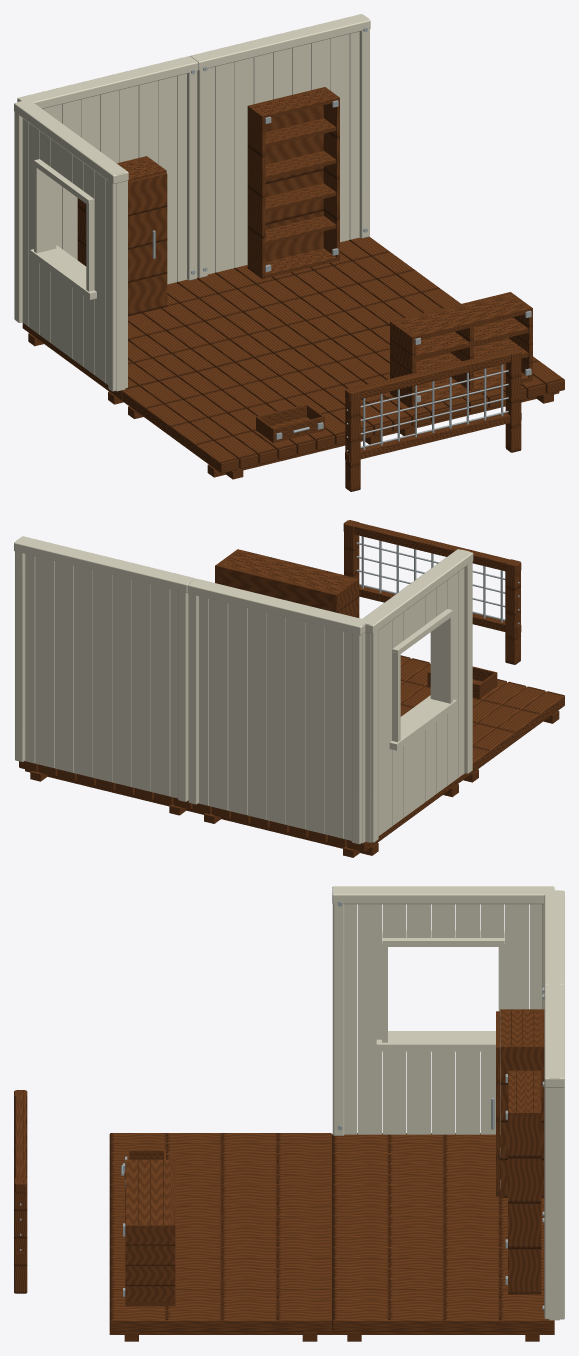
Rendered from suburban-outbreak-interiors-construction-and-service-c-8cce8ac8__20022.glb.
3 views of the same model, one above another, from view 1: azimuth 30°, elevation 25°; view 2: azimuth 150°, elevation 25°; view 3: azimuth 270°, elevation 25° (orthographic). The views are drawn at different scales.
Parts seen in each view (by area): view 1: 005-room-solid-partition/0, 006-room-window-wall/0, 001-modular-survival-base-builder--plank-floor/0, 004-room-solid-partition/0, 007-bookcase-broken-back/0, 002-modular-survival-base-builder--plank-floor/0, 000-modular-survival-base-builder--plank-floor/0, 009-sideboard-open-carcass/0, 003-modular-survival-base-builder--plank-floor/0, 011-balcony-guardrail/0, 008-display-cabinet-carcass/cabinet-door-0/wood, 011-balcony-guardrail/1 (+2 smaller); view 2: 004-room-solid-partition/0, 005-room-solid-partition/0, 006-room-window-wall/0, 001-modular-survival-base-builder--plank-floor/0, 009-sideboard-open-carcass/0, 011-balcony-guardrail/0, 000-modular-survival-base-builder--plank-floor/0, 002-modular-survival-base-builder--plank-floor/0, 011-balcony-guardrail/1, 010-sideboard-removable-drawer/0; view 3: 006-room-window-wall/0, 002-modular-survival-base-builder--plank-floor/0, 003-modular-survival-base-builder--plank-floor/0, 001-modular-survival-base-builder--plank-floor/0, 000-modular-survival-base-builder--plank-floor/0, 007-bookcase-broken-back/0, 009-sideboard-open-carcass/0, 005-room-solid-partition/0, 008-display-cabinet-carcass/0, 011-balcony-guardrail/0, 004-room-solid-partition/0, 008-display-cabinet-carcass/cabinet-door-0/wood.
Part boxes in pixels (x1,y1,x2,y2): 005-room-solid-partition/0: (190, 14, 370, 277); 006-room-window-wall/0: (14, 99, 128, 391); 001-modular-survival-base-builder--plank-floor/0: (122, 349, 392, 479); 004-room-solid-partition/0: (17, 56, 198, 284); 007-bookcase-broken-back/0: (247, 87, 339, 279); 002-modular-survival-base-builder--plank-floor/0: (197, 237, 460, 349); 000-modular-survival-base-builder--plank-floor/0: (22, 279, 292, 404); 009-sideboard-open-carcass/0: (390, 292, 532, 409); 003-modular-survival-base-builder--plank-floor/0: (294, 326, 564, 435); 011-balcony-guardrail/0: (345, 348, 521, 491); 008-display-cabinet-carcass/cabinet-door-0/wood: (128, 172, 167, 316); 011-balcony-guardrail/1: (346, 364, 508, 451); 004-room-solid-partition/0: (187, 578, 367, 844); 005-room-solid-partition/0: (14, 536, 195, 801); 006-room-window-wall/0: (360, 549, 473, 842); 001-modular-survival-base-builder--plank-floor/0: (400, 655, 564, 782); 009-sideboard-open-carcass/0: (215, 549, 359, 617); 011-balcony-guardrail/0: (343, 520, 521, 664); 000-modular-survival-base-builder--plank-floor/0: (192, 773, 464, 857); 002-modular-survival-base-builder--plank-floor/0: (19, 761, 198, 815); 011-balcony-guardrail/1: (356, 536, 519, 624); 010-sideboard-removable-drawer/0: (427, 666, 497, 698); 006-room-window-wall/0: (332, 886, 554, 1135); 002-modular-survival-base-builder--plank-floor/0: (332, 1227, 554, 1341); 003-modular-survival-base-builder--plank-floor/0: (109, 1227, 332, 1341); 001-modular-survival-base-builder--plank-floor/0: (109, 1133, 332, 1227); 000-modular-survival-base-builder--plank-floor/0: (332, 1133, 544, 1227); 007-bookcase-broken-back/0: (508, 1070, 541, 1294); 009-sideboard-open-carcass/0: (125, 1159, 175, 1306); 005-room-solid-partition/0: (544, 984, 564, 1320); 008-display-cabinet-carcass/0: (500, 1009, 544, 1197); 011-balcony-guardrail/0: (14, 1090, 27, 1293); 004-room-solid-partition/0: (544, 890, 564, 985); 008-display-cabinet-carcass/cabinet-door-0/wood: (496, 1011, 499, 1196).
Bounding box in the file's own units: 4.13 × 2.61 × 4.95.
Materials: 3 (1 with a texture image).
